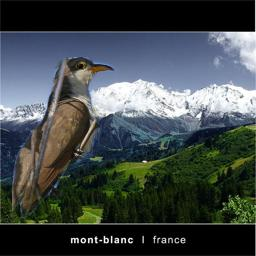Cuckoo: (12, 57, 140, 218)
